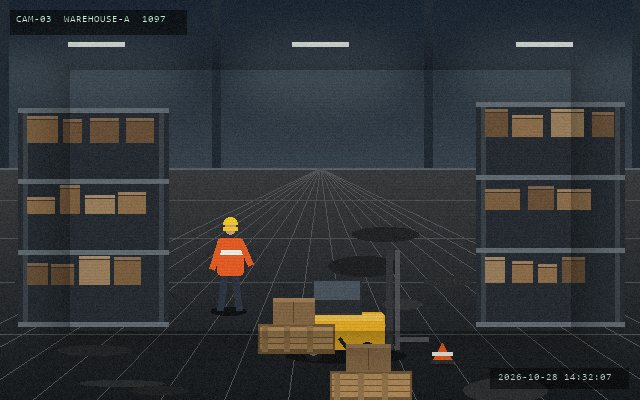cone: (430, 341, 454, 366)
forklift: (290, 247, 430, 363)
pallet: (256, 322, 336, 355), (328, 369, 413, 399)
person: (209, 215, 252, 314)
shelf: (476, 102, 624, 322), (18, 108, 168, 322)
